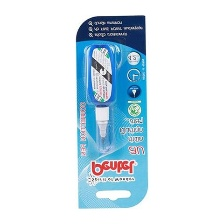book: (73, 11, 149, 211)
correction_fluid: (84, 41, 117, 151)
